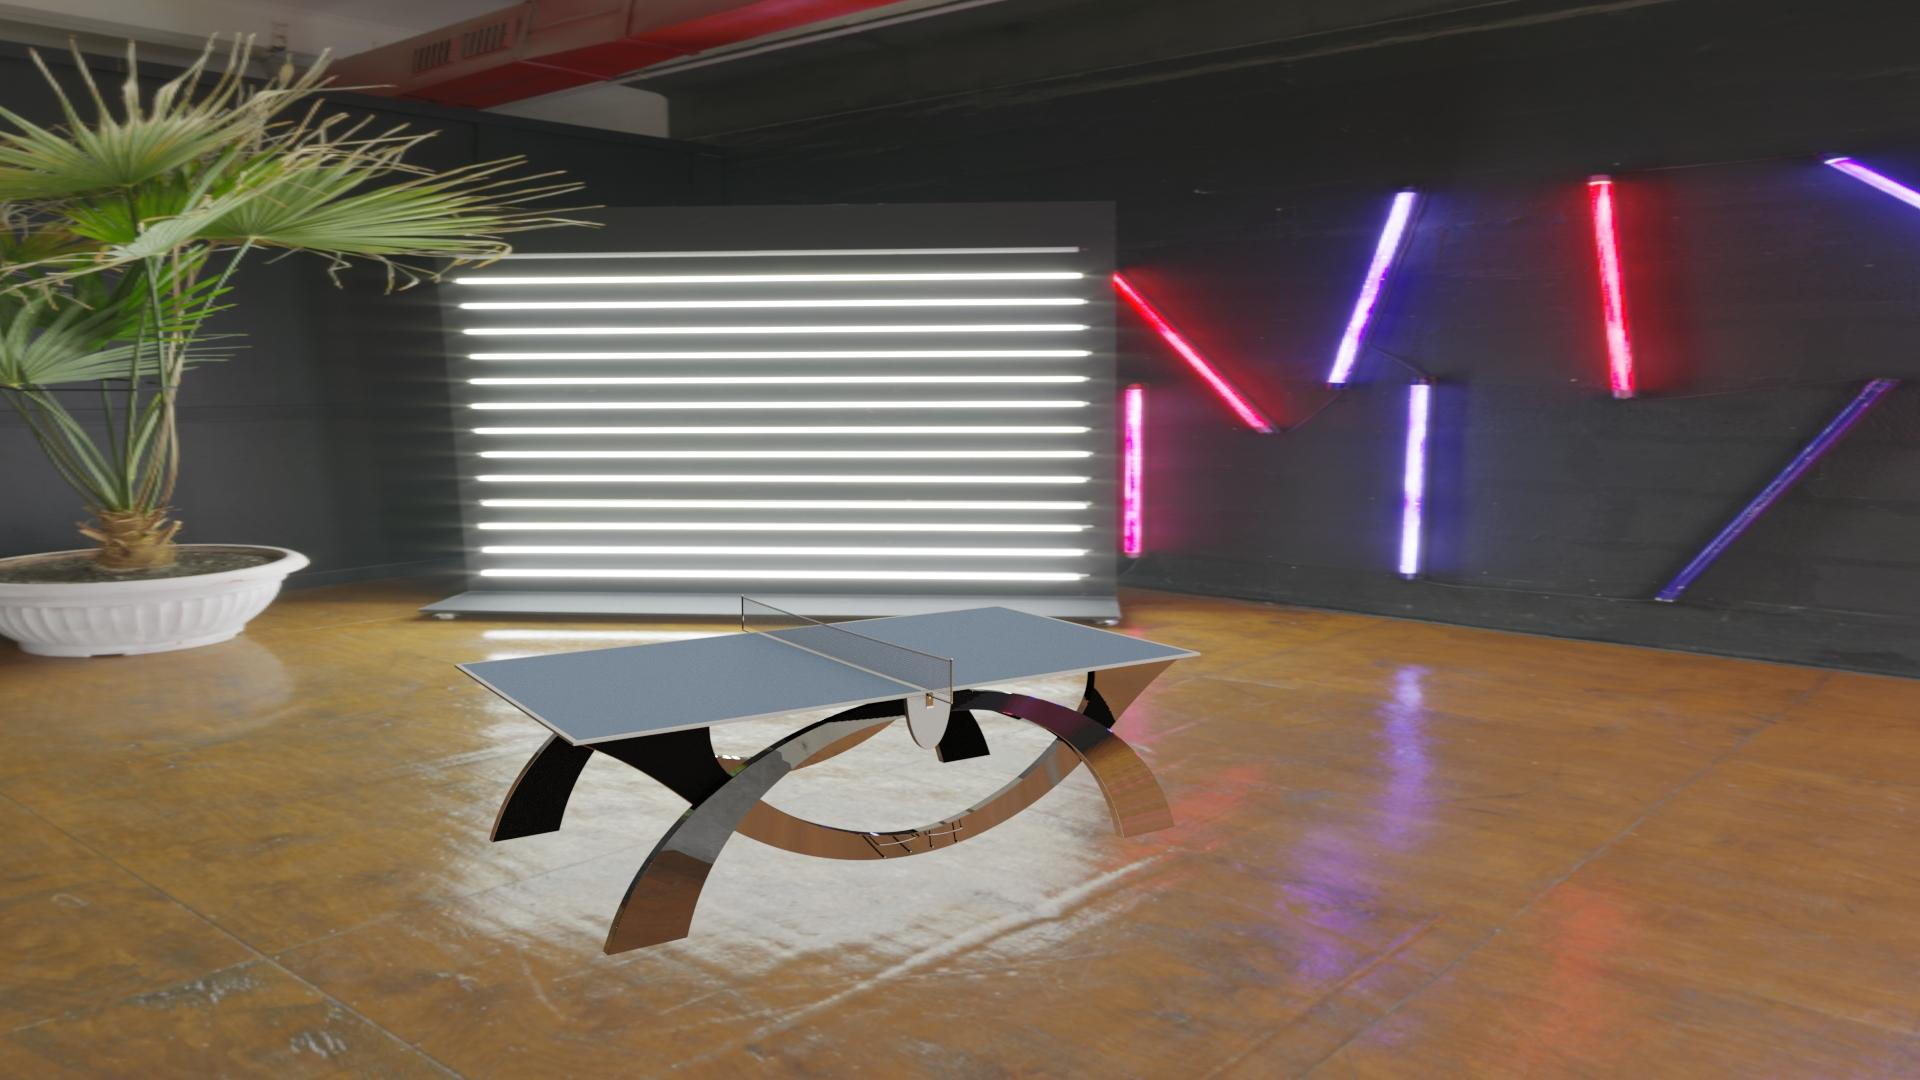table: (460, 607, 1193, 741)
